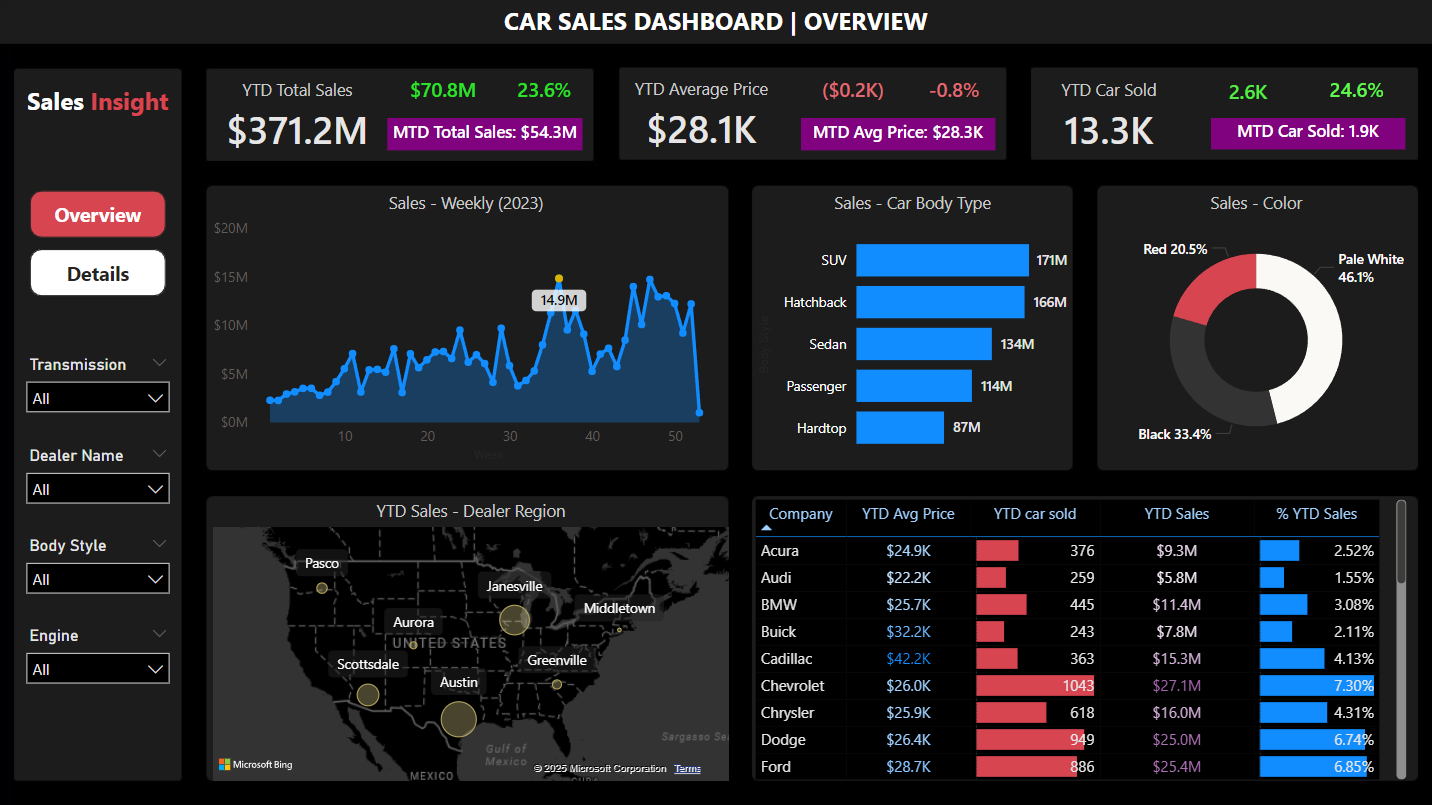

The dashboard page shown, as its layout file describes it:
{"tool":"powerbi","page":{"name":"Overview","canvas":[1280,720],"ordinal":0},"visuals":[{"type":"card","title":"YTD Total Sales","fields":{"Values":["car_data.YTD Sales"]},"box":[188.1,70.7,160,72.7],"z":0},{"type":"card","fields":{"Values":["car_data.Sales Diff"]},"box":[357.2,61.1,81.5,45.5],"z":1000},{"type":"card","fields":{"Values":["car_data.% Sales Diff"]},"box":[447,61.1,81.5,45.5],"z":2000},{"type":"card","fields":{"Values":["car_data.MTD KPI"]},"box":[347.6,106.7,173.8,28.8],"z":3000},{"type":"card","title":"YTD Average Price","fields":{"Values":["car_data.Average Price"]},"box":[562.1,69.5,129.4,73.1],"z":4000},{"type":"card","fields":{"Values":["car_data.Average Price Diff"]},"box":[721.5,61.1,81.5,45.5],"z":5000},{"type":"card","fields":{"Values":["car_data.% Average price Diff"]},"box":[811.7,61.3,81.1,45.7],"z":6000},{"type":"card","fields":{"Values":["car_data.Average MTD KPI"]},"box":[715.5,106.7,172.6,28.8],"z":7000},{"type":"card","title":"YTD Car Sold","fields":{"Values":["car_data.YTD car sold"]},"box":[924,70.7,129.4,73.1],"z":8000},{"type":"card","fields":{"Values":["car_data.Car sold SPLY"]},"box":[1072.7,62.3,81.5,45.5],"z":9000},{"type":"card","fields":{"Values":["car_data.CarSold diff %"]},"box":[1168.5,61.1,81.5,45.5],"z":10000},{"type":"card","fields":{"Values":["car_data.Car Sold YTD KPI"]},"box":[1079.8,107,172.5,28.1],"z":11000},{"type":"areaChart","title":"Sales - Weekly (2023)","fields":{"Category":["Calendar.Week"],"Y":["car_data.Total Sales","car_data.Highlight sales"]},"box":[187.5,171.2,460,246.2],"z":12000},{"type":"clusteredBarChart","title":"Sales - Car Body Type","fields":{"Category":["car_data.Body Style"],"Y":["Sum(car_data.Price ($))"]},"box":[672.5,171.2,285,246.2],"z":13000},{"type":"donutChart","title":"Sales - Color","fields":{"Category":["car_data.Color"],"Y":["Sum(car_data.Price ($))"]},"box":[977.5,171.2,285,246.2],"z":14000},{"type":"map","title":"YTD Sales - Dealer Region","fields":{"Category":["car_data.Dealer_Region"],"Size":["car_data.YTD car sold"]},"box":[187.5,445,468.8,255],"z":15000},{"type":"tableEx","fields":{"Values":["car_data.Company","car_data.Average YTD","car_data.YTD car sold","car_data.YTD Sales","Divide(car_data.YTD Sales, ScopedEval(car_data.YTD Sales, []))"]},"box":[668.8,441.2,590,258.8],"z":16000},{"type":"textbox","box":[16.2,0,1246.2,38.8],"z":17000},{"type":"slicer","fields":{"Values":["car_data.Body Style"]},"box":[16.2,473.3,147.5,65],"z":18000},{"type":"slicer","fields":{"Values":["car_data.Dealer_Name"]},"box":[16.2,392.9,147.5,65],"z":19000},{"type":"slicer","fields":{"Values":["car_data.Engine"]},"box":[16.2,553.8,147.5,65],"z":20000},{"type":"slicer","fields":{"Values":["car_data.Transmission"]},"box":[16.2,312.5,147.5,65],"z":21000},{"type":"textbox","box":[16.2,71.2,147.5,43.8],"z":22000},{"type":"pageNavigator","box":[30,171.2,121.2,95],"z":23000}]}

Visuals, with their boxes in screenshot pixels (x1, y1, x2, y2), scaled from the page's 1280x720 canvas onto the 1432x805 screenshot:
"YTD Total Sales" card: x1=210 y1=79 x2=389 y2=160
card - car_data.Sales Diff: x1=400 y1=68 x2=491 y2=119
card - car_data.% Sales Diff: x1=500 y1=68 x2=591 y2=119
card - car_data.MTD KPI: x1=389 y1=119 x2=583 y2=151
"YTD Average Price" card: x1=629 y1=78 x2=774 y2=159
card - car_data.Average Price Diff: x1=807 y1=68 x2=898 y2=119
card - car_data.% Average price Diff: x1=908 y1=69 x2=999 y2=120
card - car_data.Average MTD KPI: x1=800 y1=119 x2=994 y2=151
"YTD Car Sold" card: x1=1034 y1=79 x2=1178 y2=161
card - car_data.Car sold SPLY: x1=1200 y1=70 x2=1291 y2=121
card - car_data.CarSold diff %: x1=1307 y1=68 x2=1398 y2=119
card - car_data.Car Sold YTD KPI: x1=1208 y1=120 x2=1401 y2=151
"Sales - Weekly (2023)" areaChart: x1=210 y1=191 x2=724 y2=467
"Sales - Car Body Type" clusteredBarChart: x1=752 y1=191 x2=1071 y2=467
"Sales - Color" donutChart: x1=1094 y1=191 x2=1412 y2=467
"YTD Sales - Dealer Region" map: x1=210 y1=498 x2=734 y2=783
tableEx - car_data.Company x car_data.Average YTD: x1=748 y1=493 x2=1408 y2=783
textbox: x1=18 y1=0 x2=1412 y2=43
slicer - car_data.Body Style: x1=18 y1=529 x2=183 y2=602
slicer - car_data.Dealer_Name: x1=18 y1=439 x2=183 y2=512
slicer - car_data.Engine: x1=18 y1=619 x2=183 y2=692
slicer - car_data.Transmission: x1=18 y1=349 x2=183 y2=422
textbox: x1=18 y1=80 x2=183 y2=129
pageNavigator: x1=34 y1=191 x2=169 y2=298
